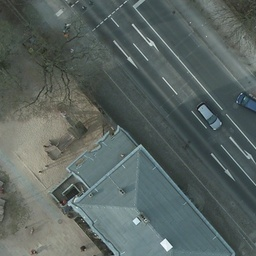car: (196, 101, 222, 132)
